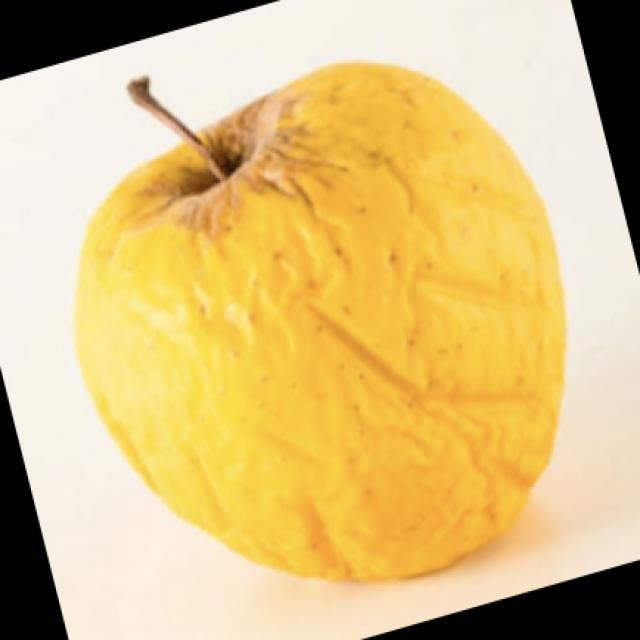Rotten: (65, 70, 583, 593)
